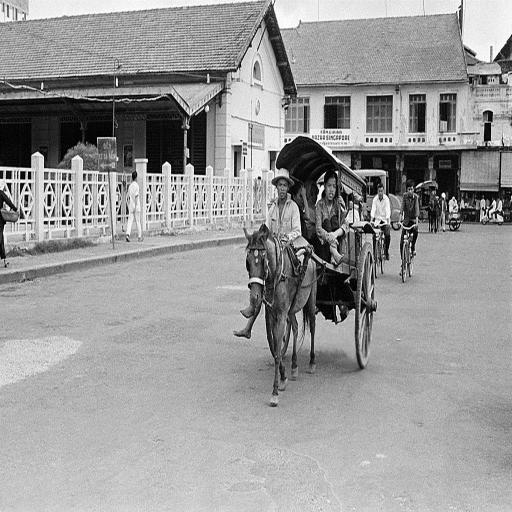horse: (240, 220, 317, 412)
